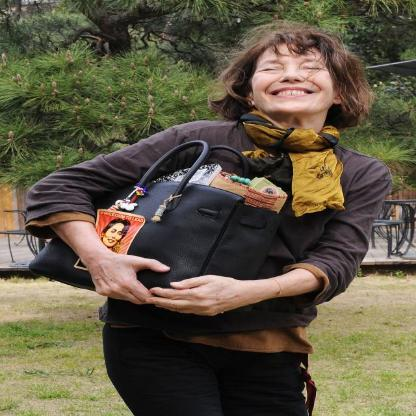bag: (33, 140, 303, 311)
person: (33, 22, 393, 415)
